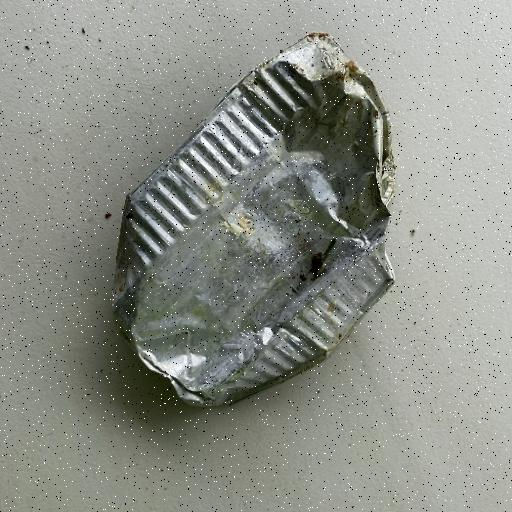Metal: (108, 30, 400, 408)
